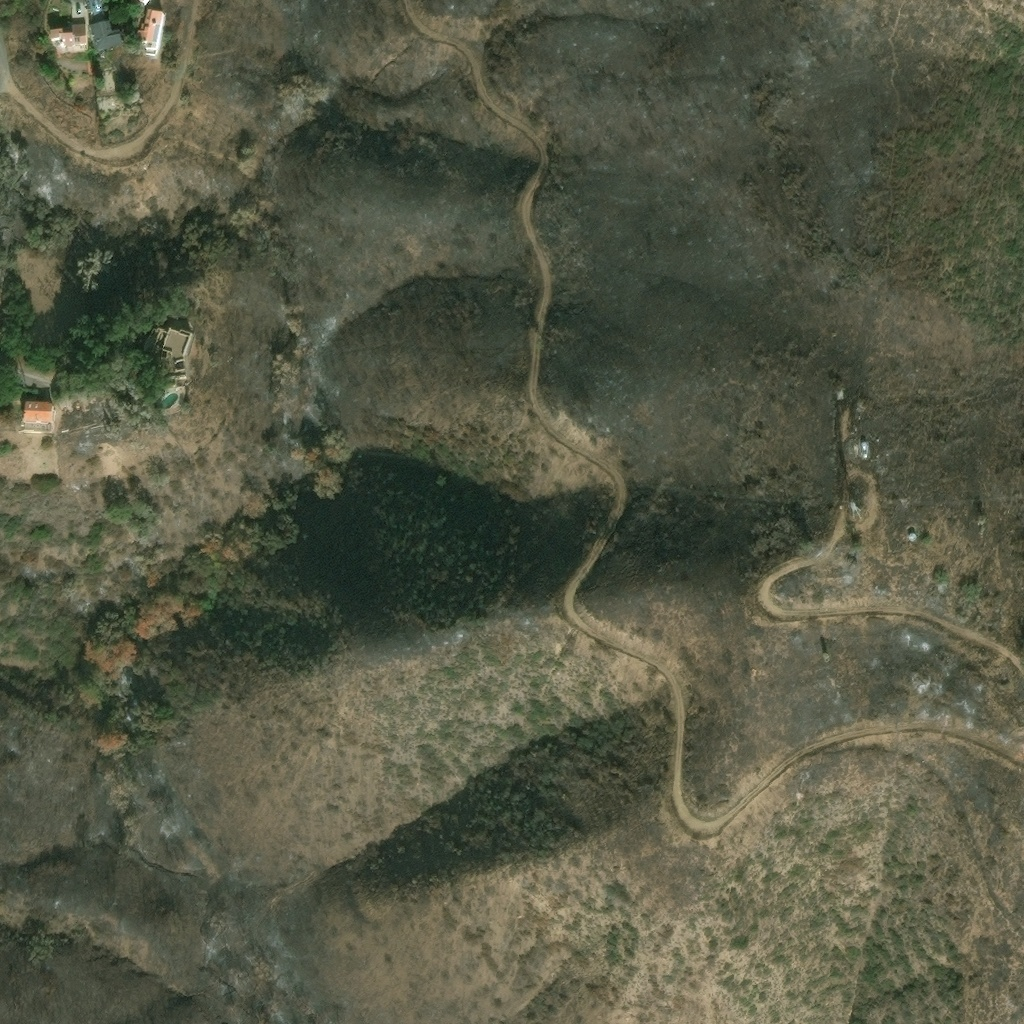0 no-damage: (140, 326, 192, 360), (133, 7, 163, 41), (48, 21, 87, 47), (88, 20, 120, 51), (22, 400, 52, 423), (138, 0, 148, 5)
